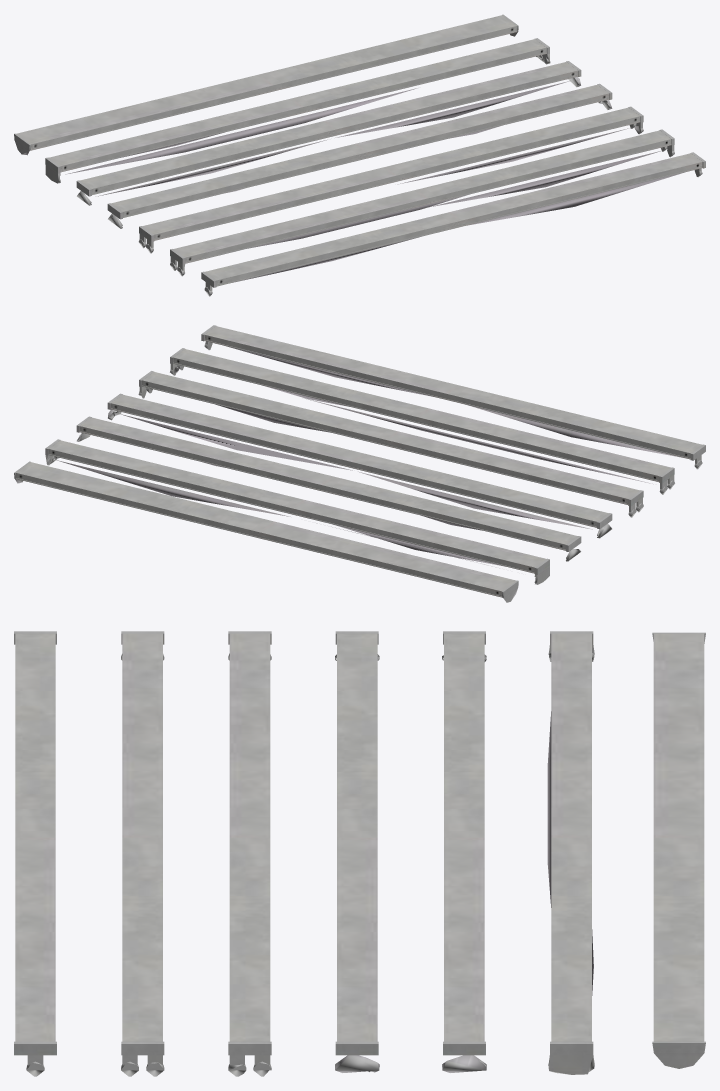
File: mounted_fluorescent_lights.glb
3 views of the same model, one above another, from view 1: azimuth 30°, elevation 25°; view 2: azimuth 150°, elevation 25°; view 3: azimuth 270°, elevation 25° (orthographic). The views are drawn at different scales.
Visible parts, largest first — view 1: mounted_fluorescent_lights_f, mounted_fluorescent_lights_e, mounted_fluorescent_lights_b, mounted_fluorescent_lights_g, mounted_fluorescent_lights_a, mounted_fluorescent_lights_c, mounted_fluorescent_lights_d; view 2: mounted_fluorescent_lights_d, mounted_fluorescent_lights_f, mounted_fluorescent_lights_g, mounted_fluorescent_lights_b, mounted_fluorescent_lights_a, mounted_fluorescent_lights_c, mounted_fluorescent_lights_e; view 3: mounted_fluorescent_lights_g, mounted_fluorescent_lights_f, mounted_fluorescent_lights_c, mounted_fluorescent_lights_d, mounted_fluorescent_lights_b, mounted_fluorescent_lights_e, mounted_fluorescent_lights_a.
Part boxes in pixels (box(x1,y1,x2,y2)): mounted_fluorescent_lights_f: box(45, 38, 550, 183); mounted_fluorescent_lights_e: box(76, 61, 581, 205); mounted_fluorescent_lights_b: box(170, 129, 674, 276); mounted_fluorescent_lights_g: box(14, 14, 518, 155); mounted_fluorescent_lights_a: box(201, 152, 705, 296); mounted_fluorescent_lights_c: box(138, 106, 643, 253); mounted_fluorescent_lights_d: box(107, 83, 612, 228); mounted_fluorescent_lights_d: box(107, 393, 612, 538); mounted_fluorescent_lights_f: box(45, 439, 549, 584); mounted_fluorescent_lights_g: box(14, 461, 518, 602); mounted_fluorescent_lights_b: box(170, 348, 674, 494); mounted_fluorescent_lights_a: box(201, 325, 705, 469); mounted_fluorescent_lights_c: box(138, 371, 643, 517); mounted_fluorescent_lights_e: box(76, 416, 581, 561); mounted_fluorescent_lights_g: box(652, 632, 705, 1068); mounted_fluorescent_lights_f: box(547, 631, 594, 1074); mounted_fluorescent_lights_c: box(228, 631, 271, 1076); mounted_fluorescent_lights_d: box(335, 631, 379, 1072); mounted_fluorescent_lights_b: box(121, 631, 164, 1076); mounted_fluorescent_lights_e: box(442, 631, 486, 1072); mounted_fluorescent_lights_a: box(14, 631, 56, 1076).
Size of the model in its own units: 0.9122 by 0.0351 by 0.6454.
2 materials, 2 textured.
